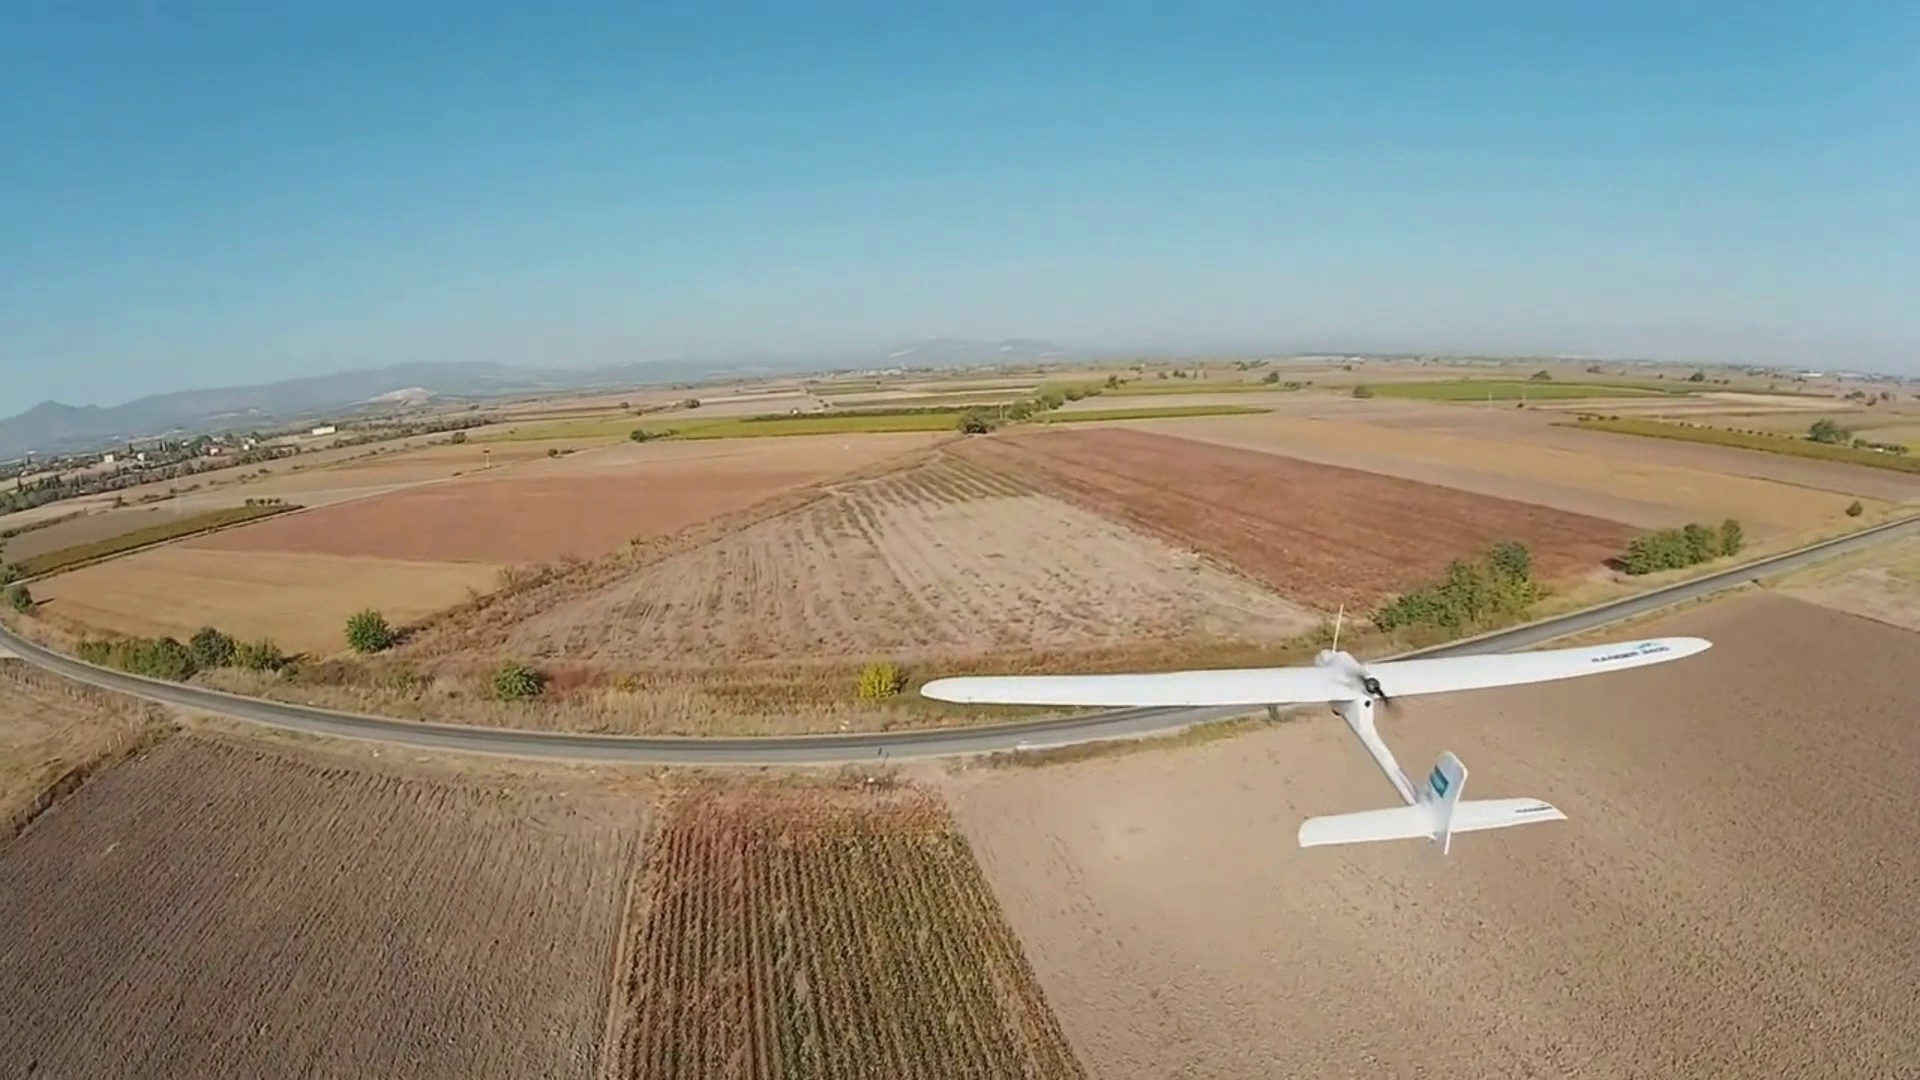airplane: (915, 488, 1907, 840), (916, 620, 1712, 840)
